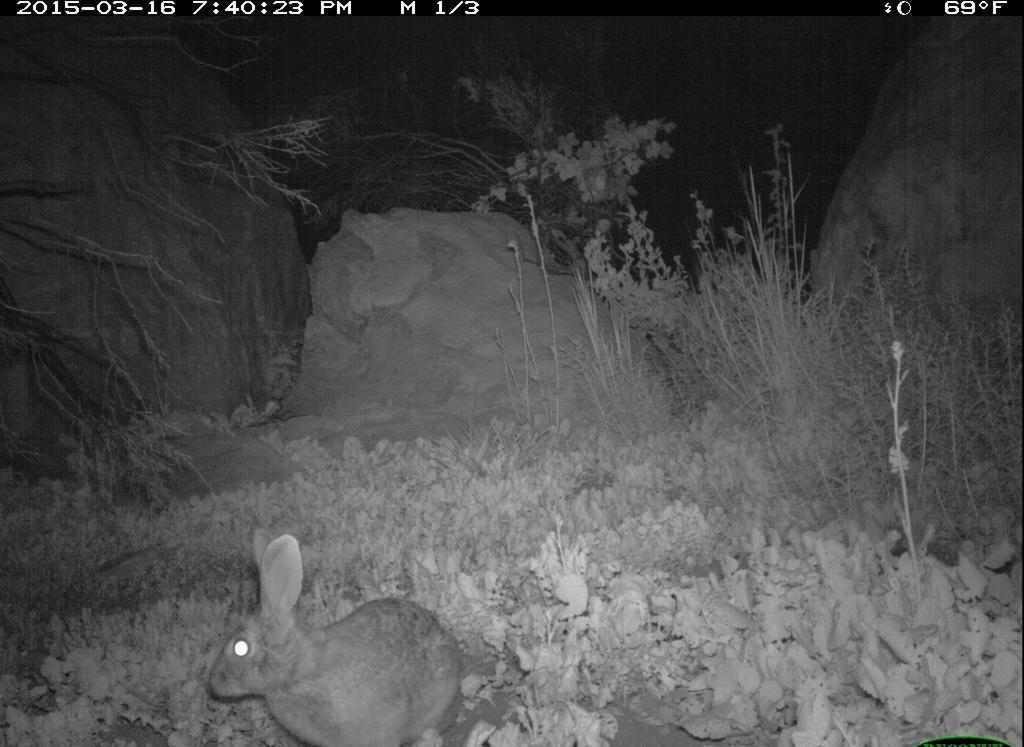rabbit: (204, 524, 475, 747)
